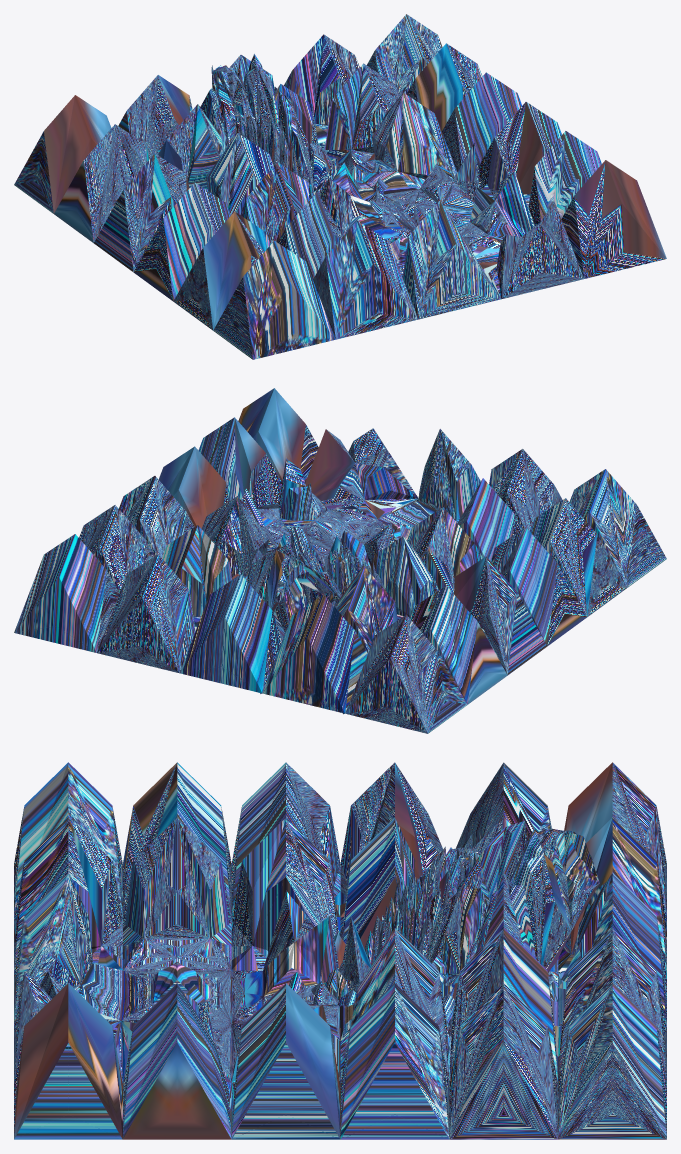
Rendered from terrain.obj.
3 views of the same model, one above another, from view 1: azimuth 30°, elevation 25°; view 2: azimuth 150°, elevation 25°; view 3: azimuth 270°, elevation 25° (orthographic). The views are drawn at different scales.
Visible parts, largest first — view 1: g_2, g_1, group2 group1 pPlane15; view 2: g_2, g_1, group2 group1 pPlane15; view 3: g_2, g_1, group2 group1 pPlane15.
Part boxes in pixels (left/top/right/bottom): g_2: left=14, top=14, right=666, bottom=359; g_1: left=211, top=53, right=388, bottom=213; group2 group1 pPlane15: left=235, top=111, right=298, bottom=175; g_2: left=14, top=388, right=666, bottom=733; g_1: left=232, top=526, right=341, bottom=611; group2 group1 pPlane15: left=322, top=541, right=386, bottom=607; g_2: left=14, top=762, right=666, bottom=1139; g_1: left=289, top=821, right=599, bottom=1033; group2 group1 pPlane15: left=364, top=846, right=479, bottom=965.
Size of the model in its own units: 787 by 297 by 787.
Materials: 1 (1 with a texture image).
